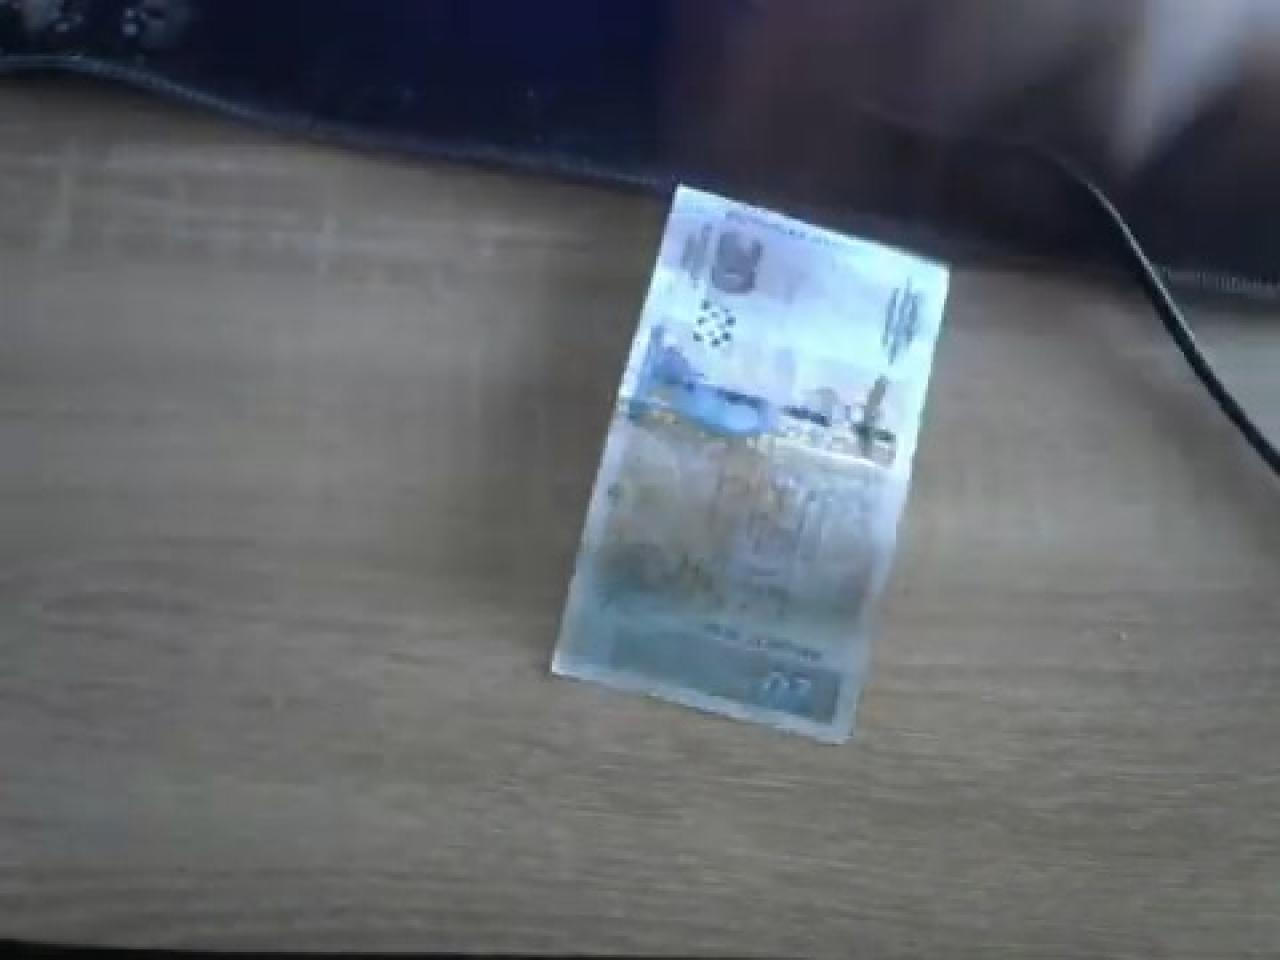20leva: (544, 187, 952, 746)
